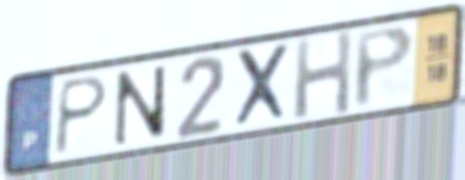2: (175, 52, 231, 143)
H: (292, 27, 355, 123)
N: (113, 62, 170, 149)
P: (352, 22, 417, 112), (50, 73, 112, 160)
X: (231, 40, 293, 131)
